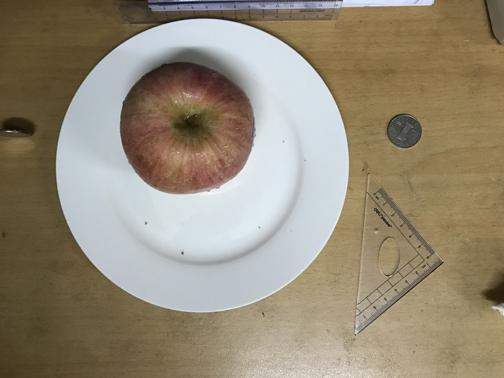apple: (116, 63, 256, 194)
coin: (385, 114, 422, 149)
